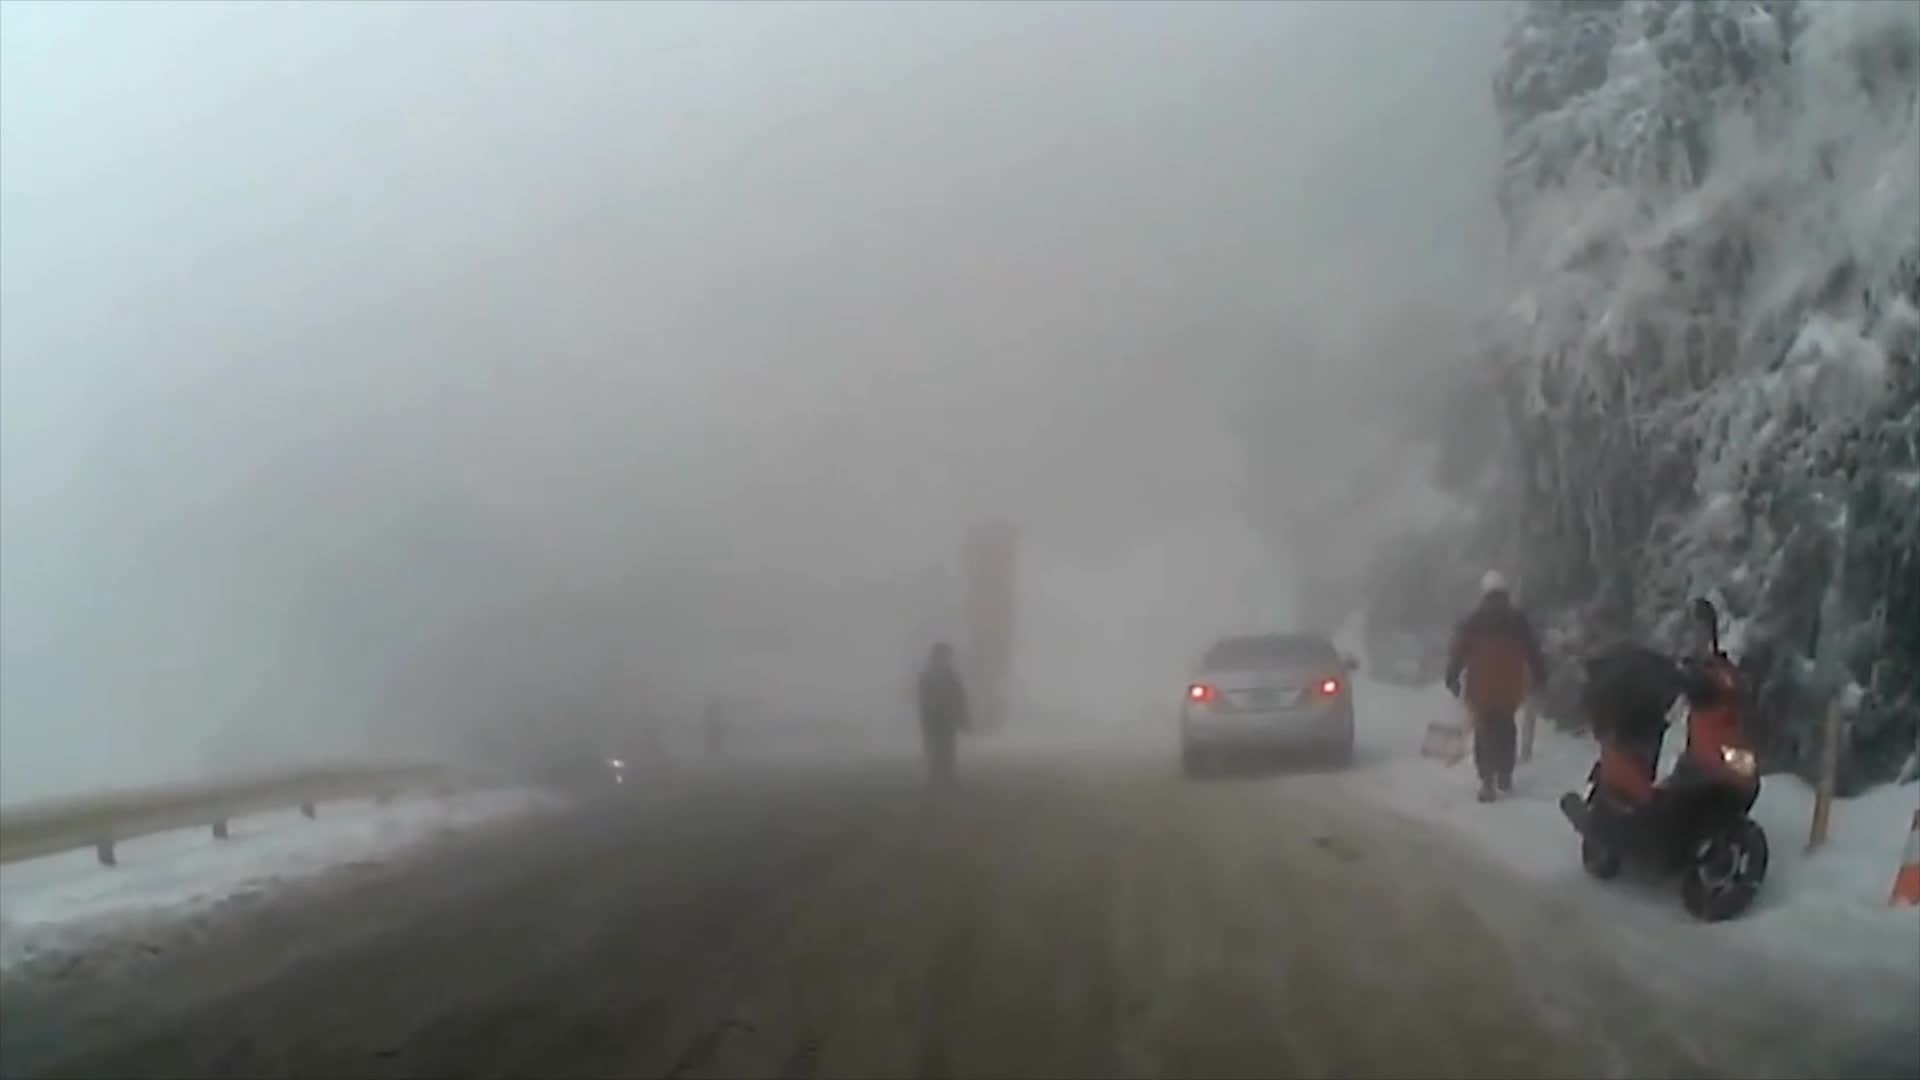pedestrian: (1440, 574, 1546, 810), (917, 642, 965, 796)
vehicle: (1179, 631, 1362, 780)
